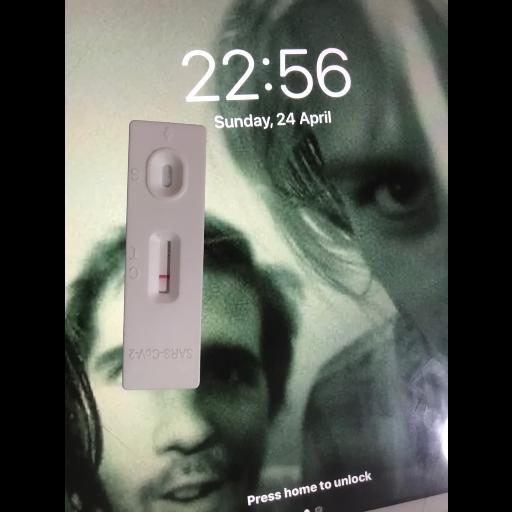Neg: (128, 125, 206, 389)
